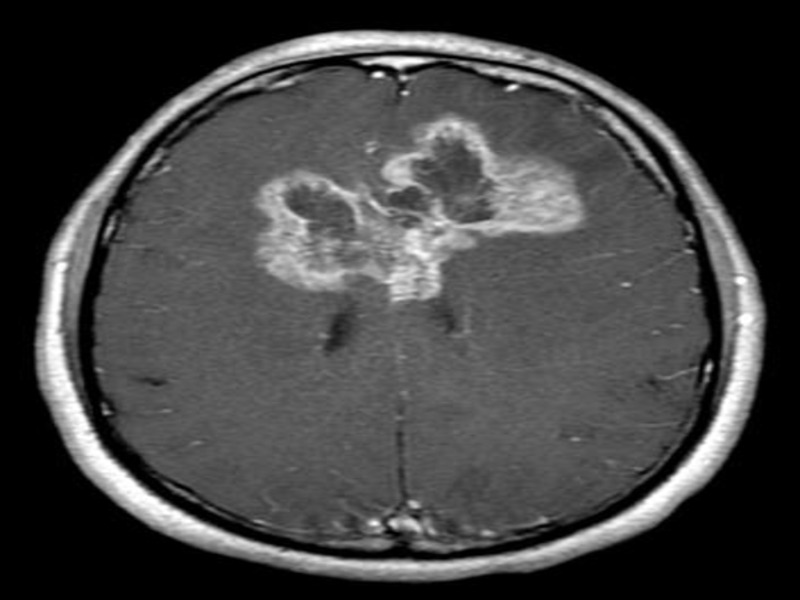tumor: (252, 114, 589, 314)
